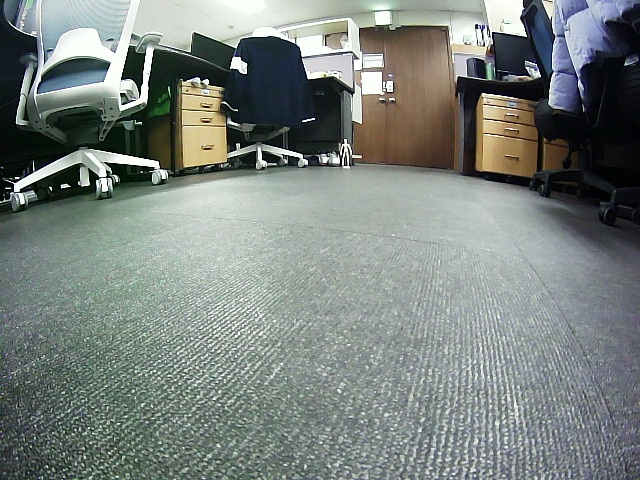person: (339, 139, 352, 166)
